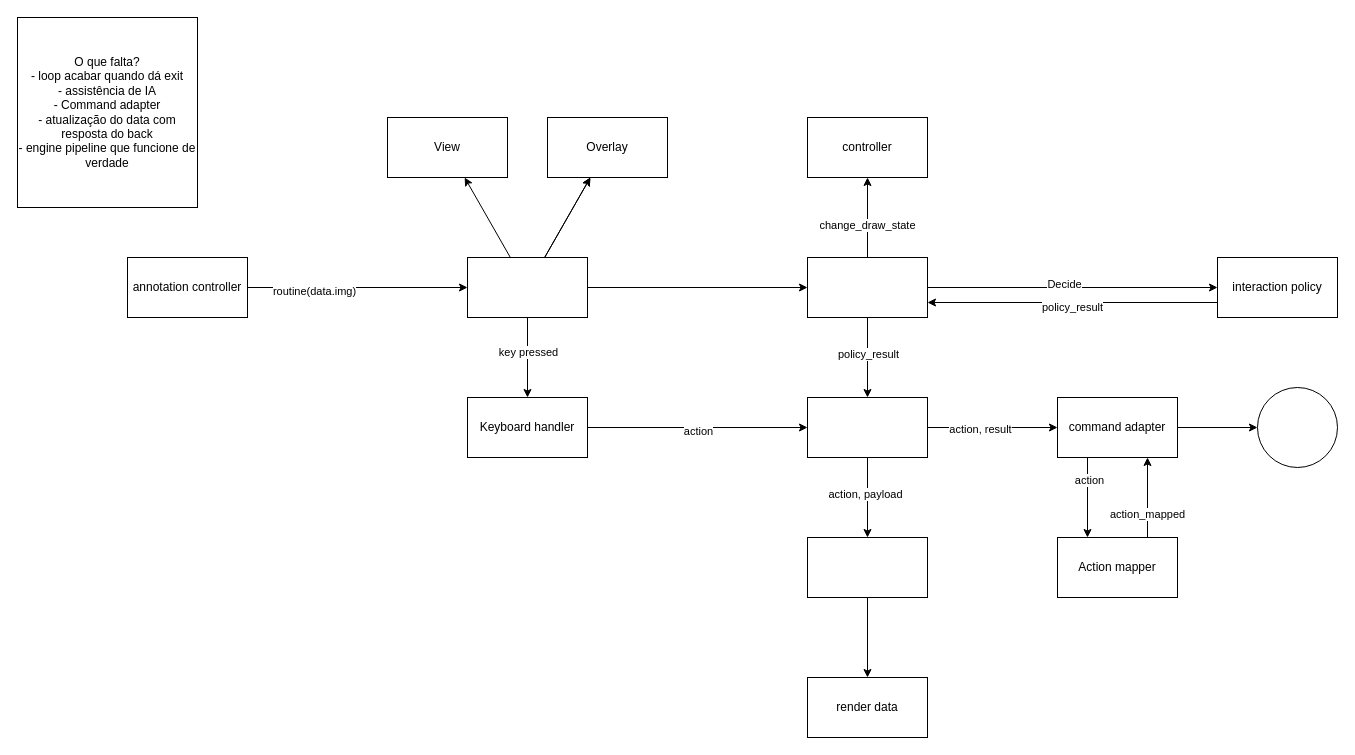
This 1355x755 diagram has some shape labels left out. The centre of each missing label's shape, as x and y in pixels:
"action dispatcher" goes at [867,427].
"action_handler" goes at [867,567].
"Backend" goes at [1297,427].
"mouse_handler" goes at [867,287].
"OpenCV pipeline" goes at [527,287].
